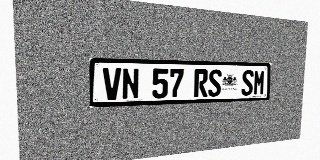5: (152, 68, 168, 99)
7: (168, 69, 184, 98)
M: (253, 70, 265, 95)
N: (122, 68, 139, 100)
R: (194, 69, 208, 97)
S: (208, 69, 222, 97), (241, 70, 254, 96)
V: (103, 68, 121, 100)
